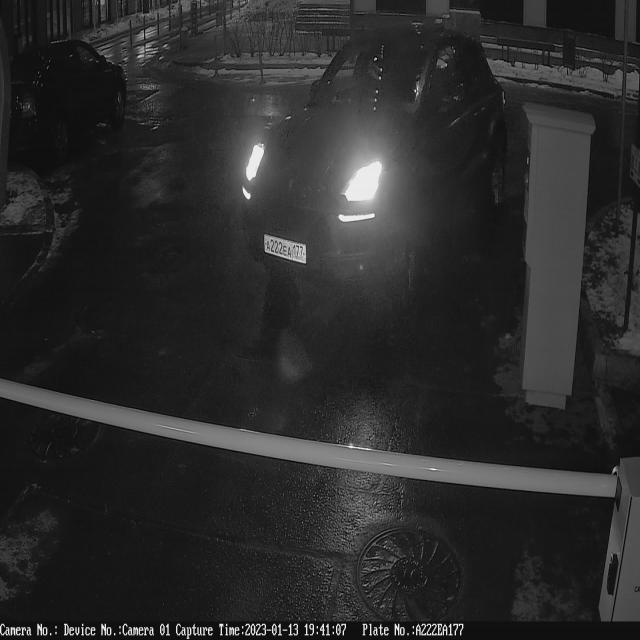car-plate-numbers: (262, 230, 311, 272)
